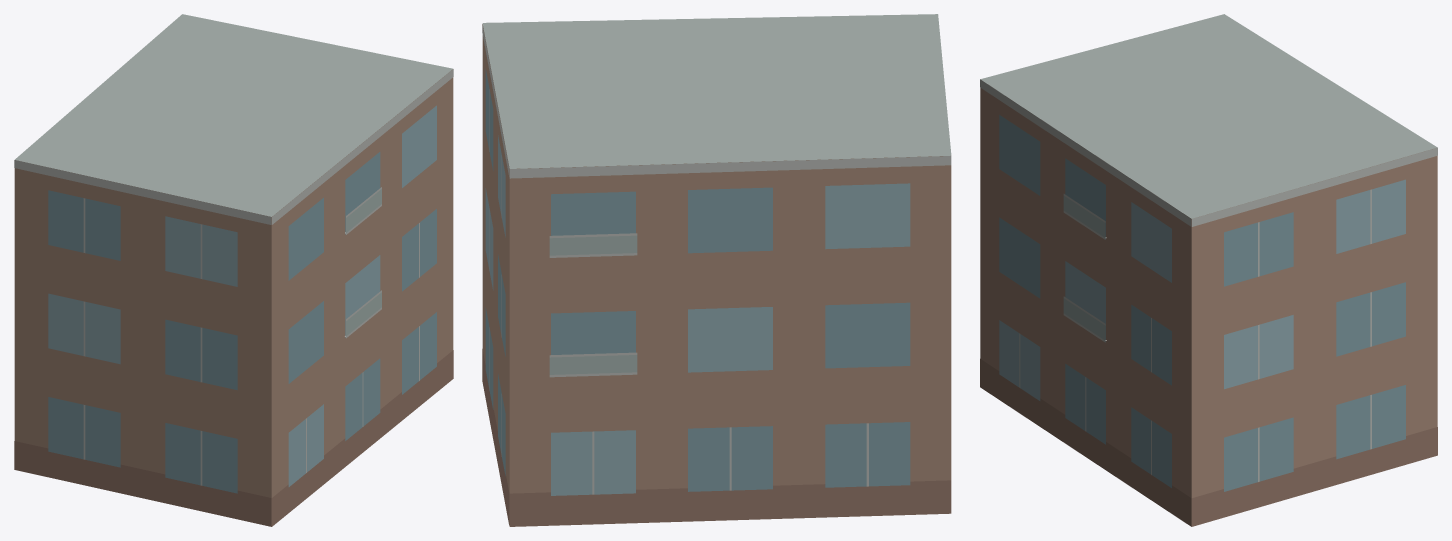
File: survey-upis-32790380.glb
3 renders of one model, left to right at view 1: azimuth 30°, elevation 25°; view 2: azimuth 150°, elevation 25°; view 3: azimuth 270°, elevation 25°, orthographic. The views are drawn at different scales.
Visible parts, largest first — view 1: survey-upis-32790380.tmp; view 2: survey-upis-32790380.tmp; view 3: survey-upis-32790380.tmp.
Part boxes in pixels (<box>): survey-upis-32790380.tmp: <box>14,14,453,526</box>; survey-upis-32790380.tmp: <box>482,14,951,526</box>; survey-upis-32790380.tmp: <box>980,14,1437,526</box>.
Bounding box in the file's own units: 13.06 × 9.15 × 12.33.
